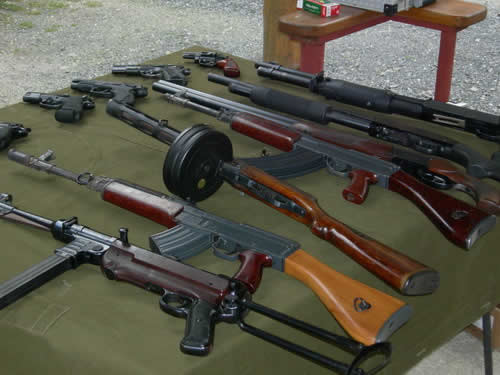rifle: (156, 69, 489, 245), (3, 201, 244, 343)
